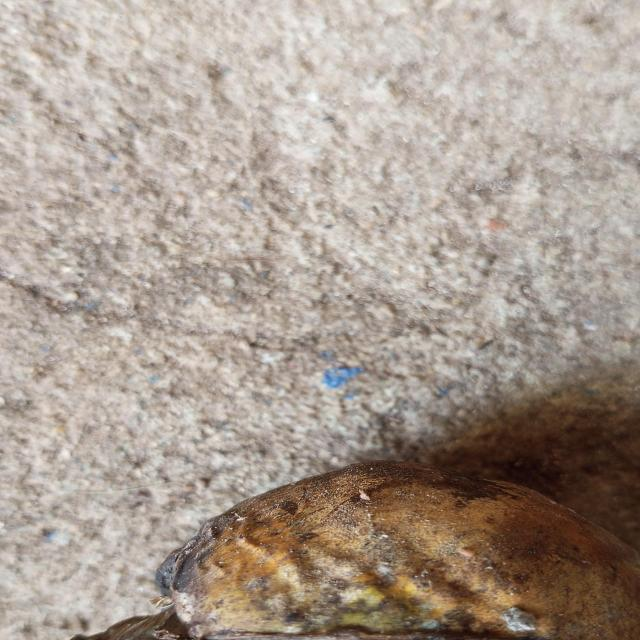damaged: (85, 462, 640, 640)
